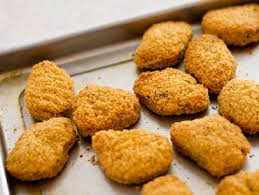chicken_nuggets: (179, 116, 248, 175), (100, 128, 167, 178), (18, 119, 73, 179), (141, 69, 203, 117), (77, 84, 131, 133), (141, 20, 190, 69), (28, 63, 73, 114), (192, 36, 230, 94), (208, 3, 258, 45), (225, 81, 258, 133)
